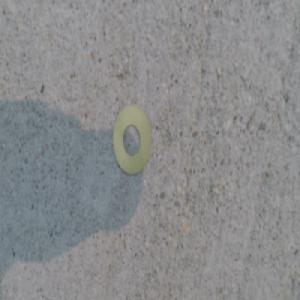Washer: (110, 100, 151, 173)
